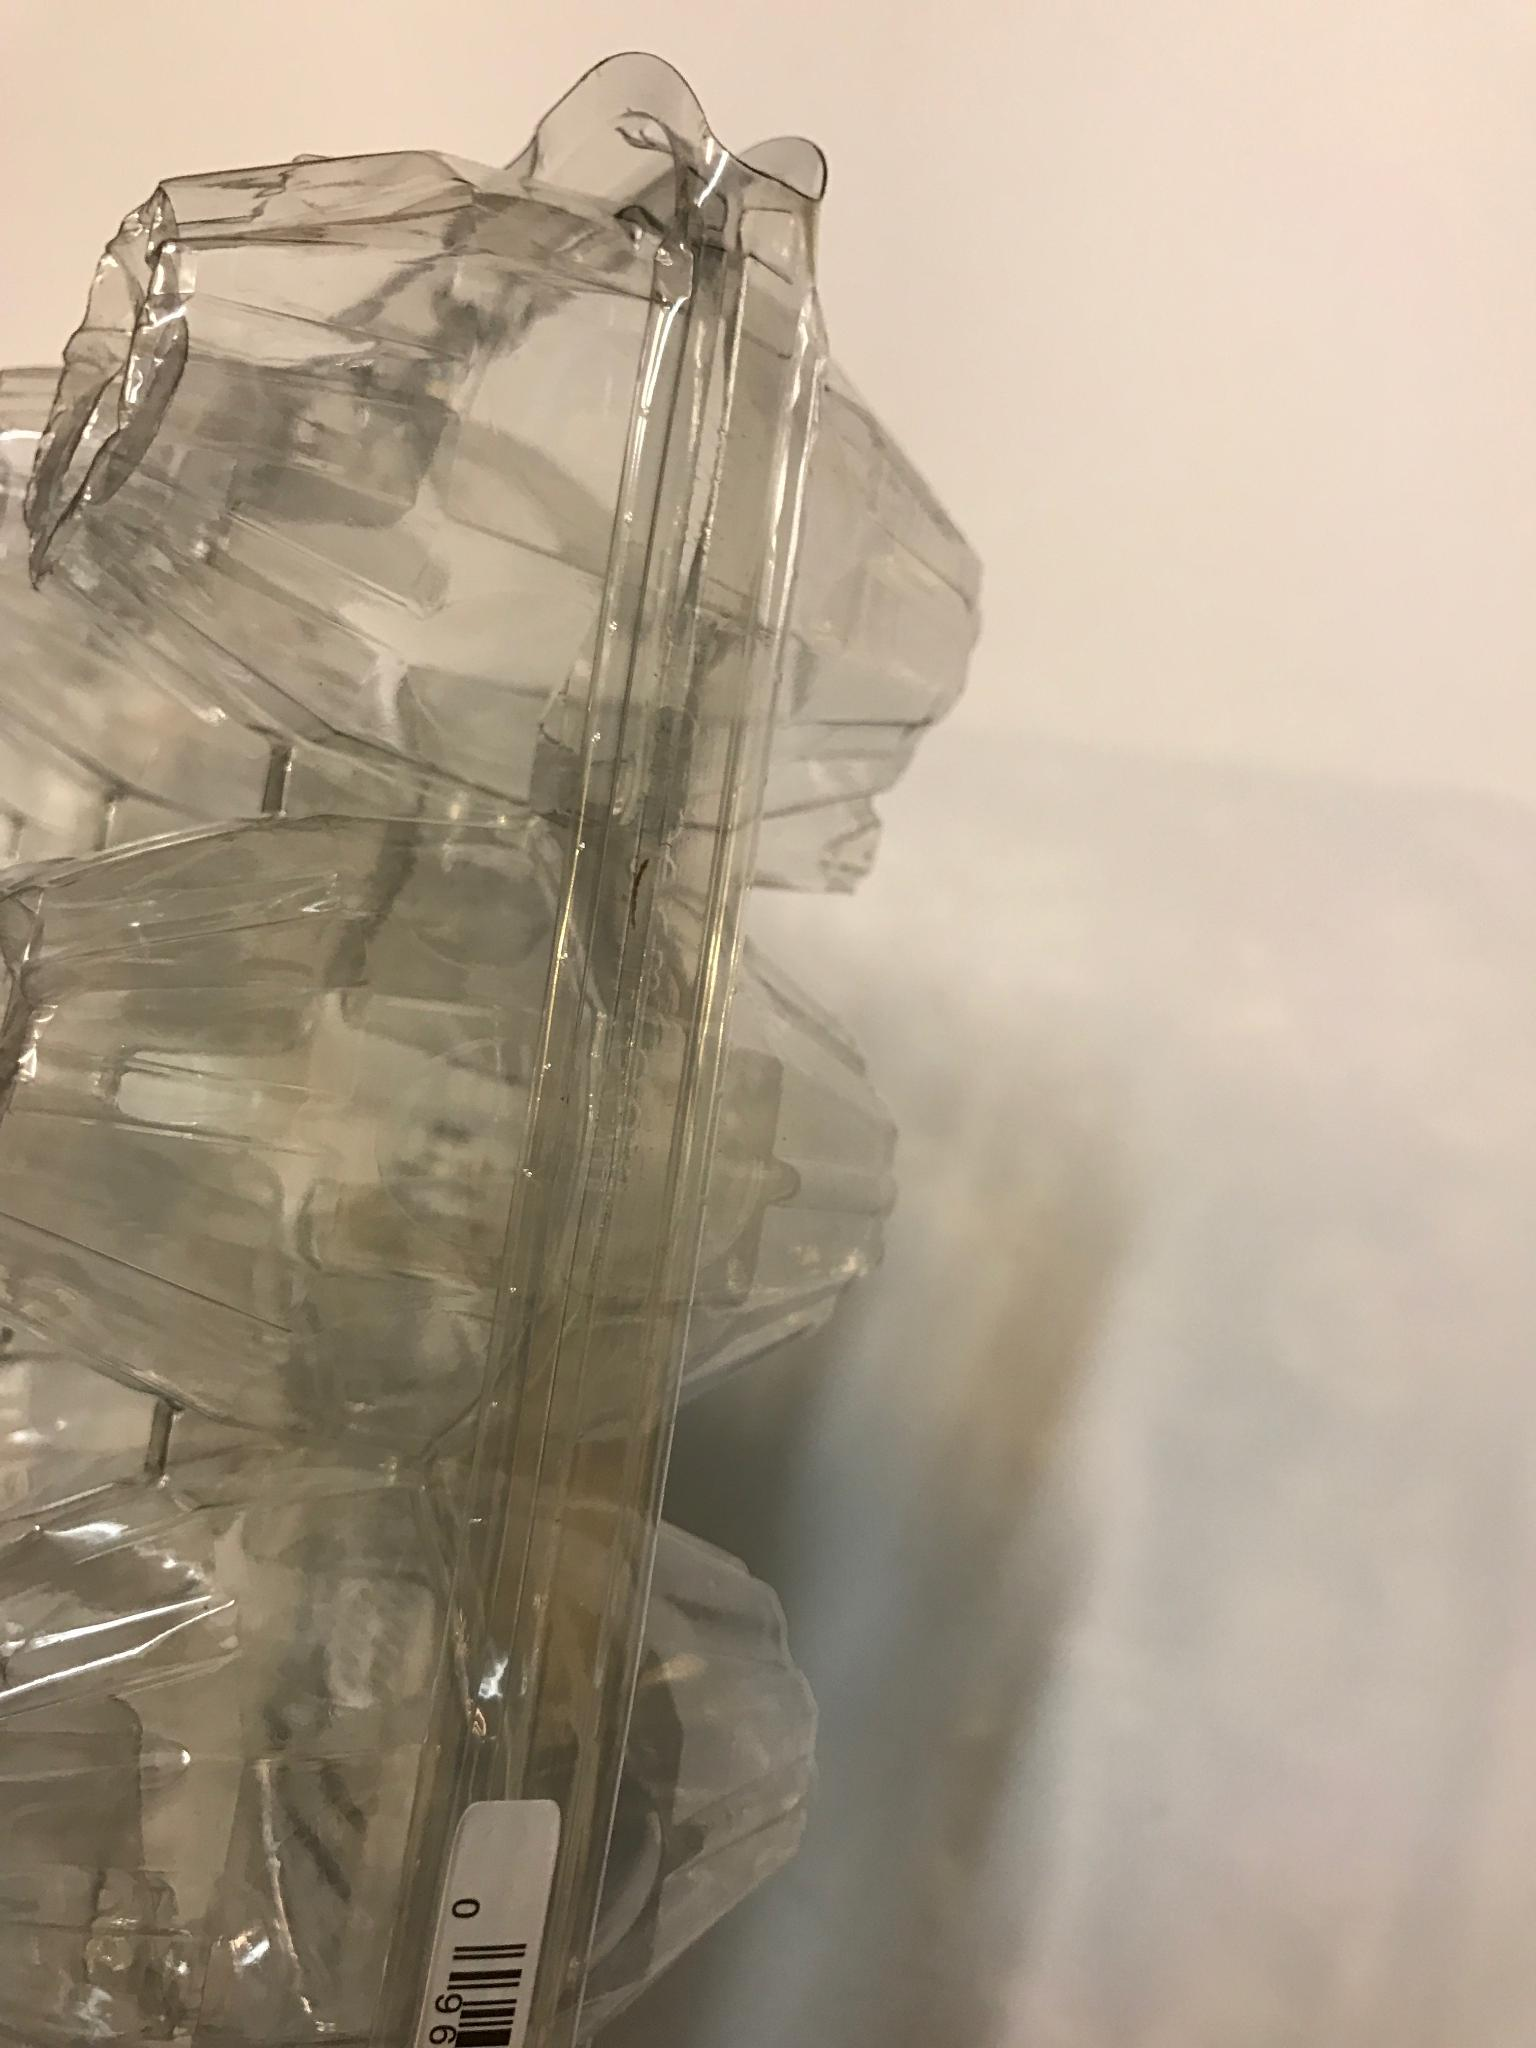Plastic: (3, 40, 997, 2048)
